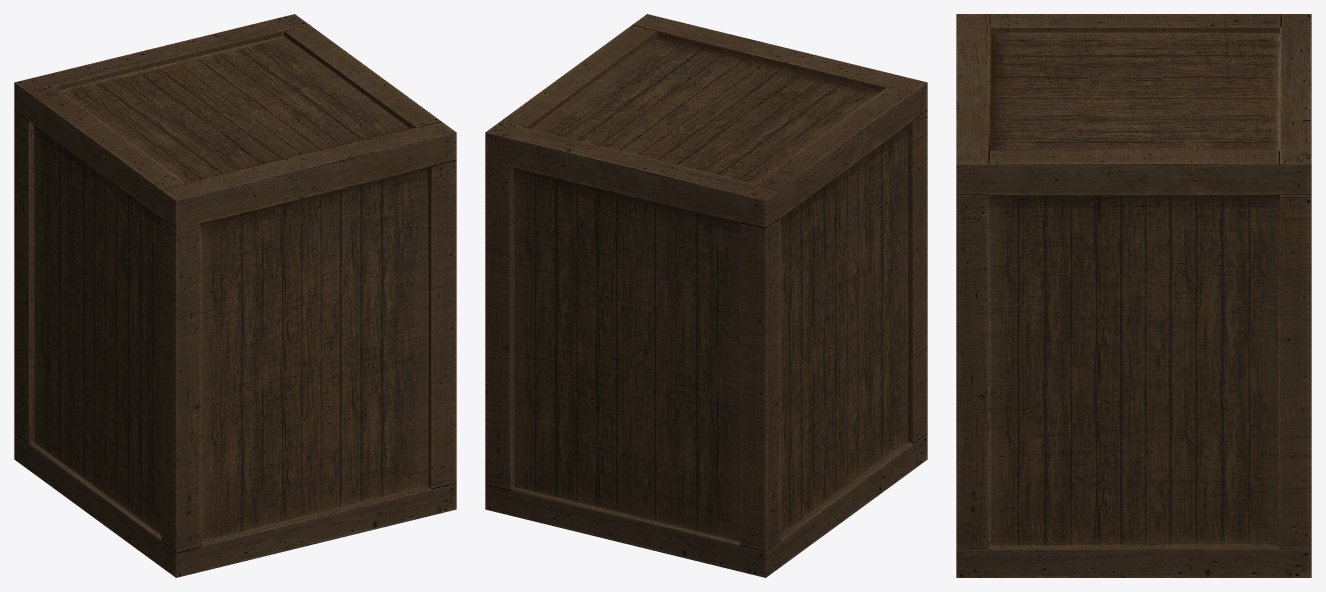
The model's file is wooden_crate_hx_2_2.glb.
The picture shows the model from 3 angles, left to right: view 1: azimuth 30°, elevation 25°; view 2: azimuth 150°, elevation 25°; view 3: azimuth 270°, elevation 25°; orthographic projection. The views are drawn at different scales.
Visible parts, largest first — view 1: wooden_crate_hx_2_2; view 2: wooden_crate_hx_2_2; view 3: wooden_crate_hx_2_2.
Part boxes in pixels (bbox=[...]): wooden_crate_hx_2_2: bbox=[14, 14, 456, 577]; wooden_crate_hx_2_2: bbox=[485, 14, 927, 577]; wooden_crate_hx_2_2: bbox=[956, 14, 1311, 577].
Size of the model in its own units: 1.4 by 1.8 by 1.4.
Materials: 1 (1 with a texture image).
